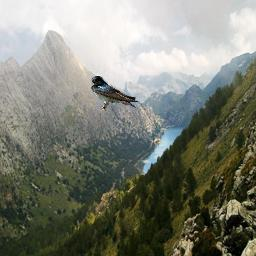Swallow: (91, 76, 140, 111)
